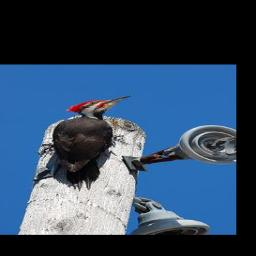Woodpecker: (33, 94, 139, 190)
